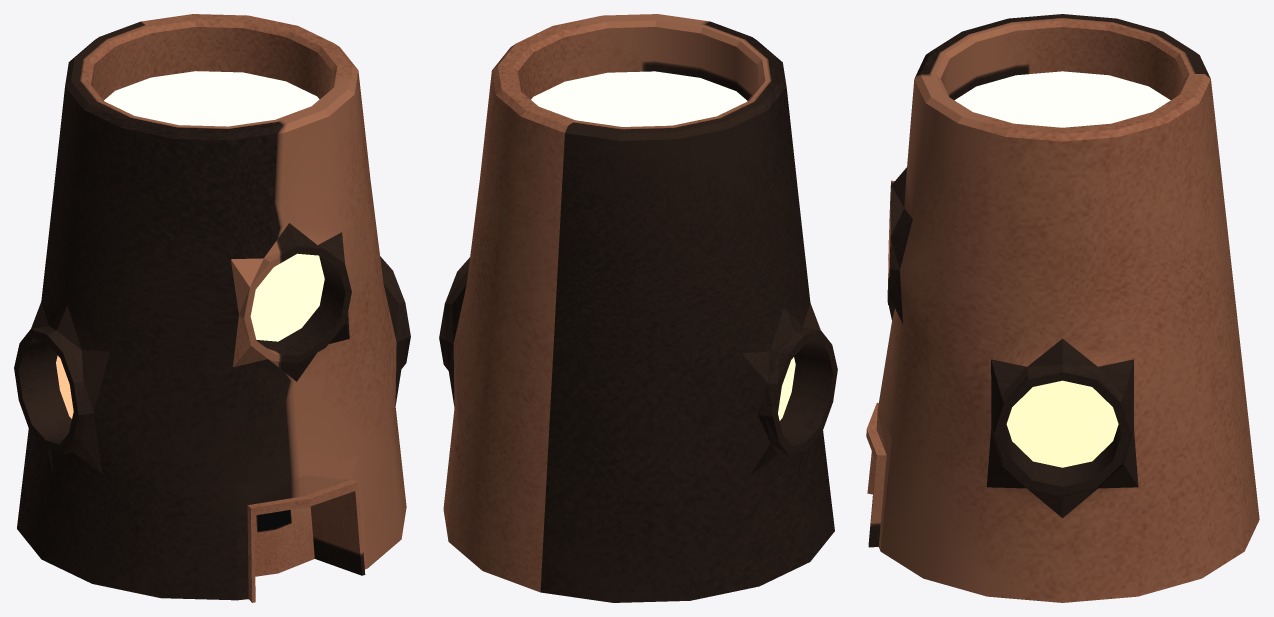
Rendered from Smelter 2.fbx.
3 views of the same model, side by side, from view 1: azimuth 30°, elevation 25°; view 2: azimuth 150°, elevation 25°; view 3: azimuth 270°, elevation 25° (orthographic).
Visible parts, largest first — view 1: Smelter; view 2: Smelter; view 3: Smelter.
Part boxes in pixels (bbox=[...]): Smelter: bbox=[14, 14, 410, 602]; Smelter: bbox=[439, 14, 837, 602]; Smelter: bbox=[866, 14, 1259, 602].
Size of the model in its own units: 399 by 507 by 400.
